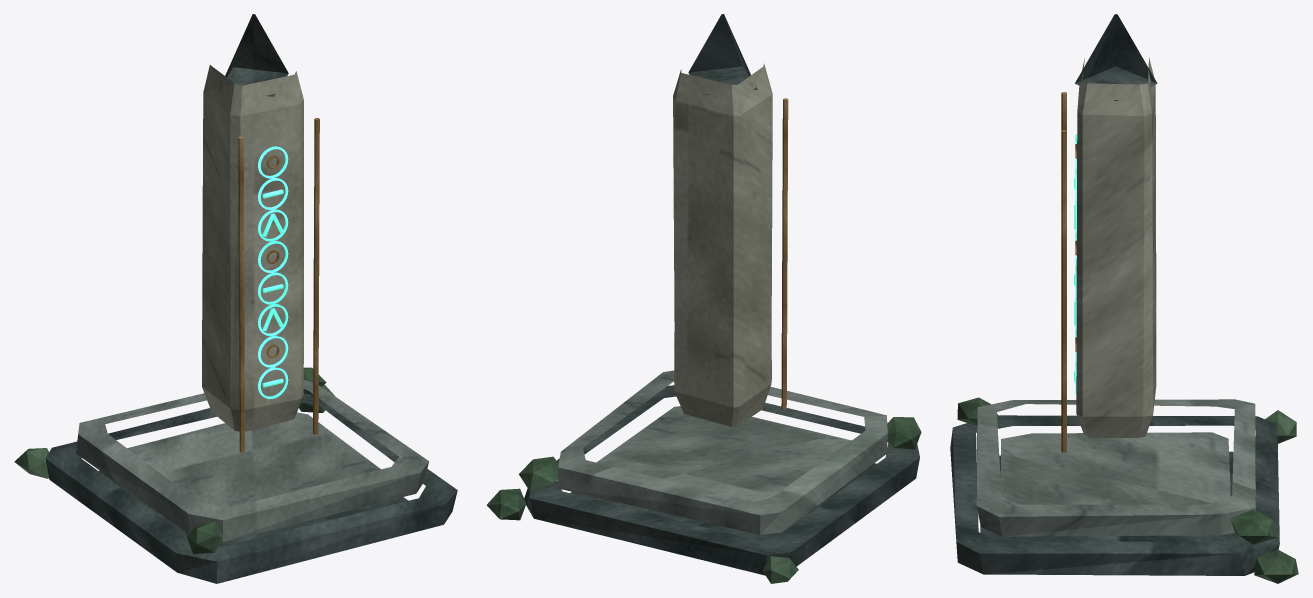
File: 0492_obelisk_17.glb
3 views of the same model, side by side, from view 1: azimuth 30°, elevation 25°; view 2: azimuth 150°, elevation 25°; view 3: azimuth 270°, elevation 25° (orthographic). The views are drawn at different scales.
Visible parts, largest first — view 1: stone_light, stone, stone_dark, brass, glow, moss; view 2: stone_light, stone, stone_dark, moss, brass; view 3: stone, stone_light, stone_dark, moss, brass, glow.
Part boxes in pixels (x1,y1,x2,y2): stone_light: [202, 65, 303, 431]; stone: [76, 379, 428, 542]; stone_dark: [45, 14, 457, 583]; brass: [238, 118, 319, 452]; glow: [258, 146, 288, 399]; moss: [14, 367, 334, 554]; stone_light: [673, 63, 772, 426]; stone: [557, 370, 887, 534]; stone_dark: [524, 14, 919, 575]; moss: [487, 417, 921, 583]; brass: [781, 98, 788, 409]; stone: [976, 399, 1256, 536]; stone_light: [1076, 57, 1156, 438]; stone_dark: [950, 14, 1279, 575]; moss: [957, 397, 1298, 583]; brass: [1061, 92, 1076, 452]; glow: [1074, 134, 1077, 393].
Bounding box in the file's own units: 2.1 × 3.17 × 2.01.
Materials: 6 (6 with a texture image).
